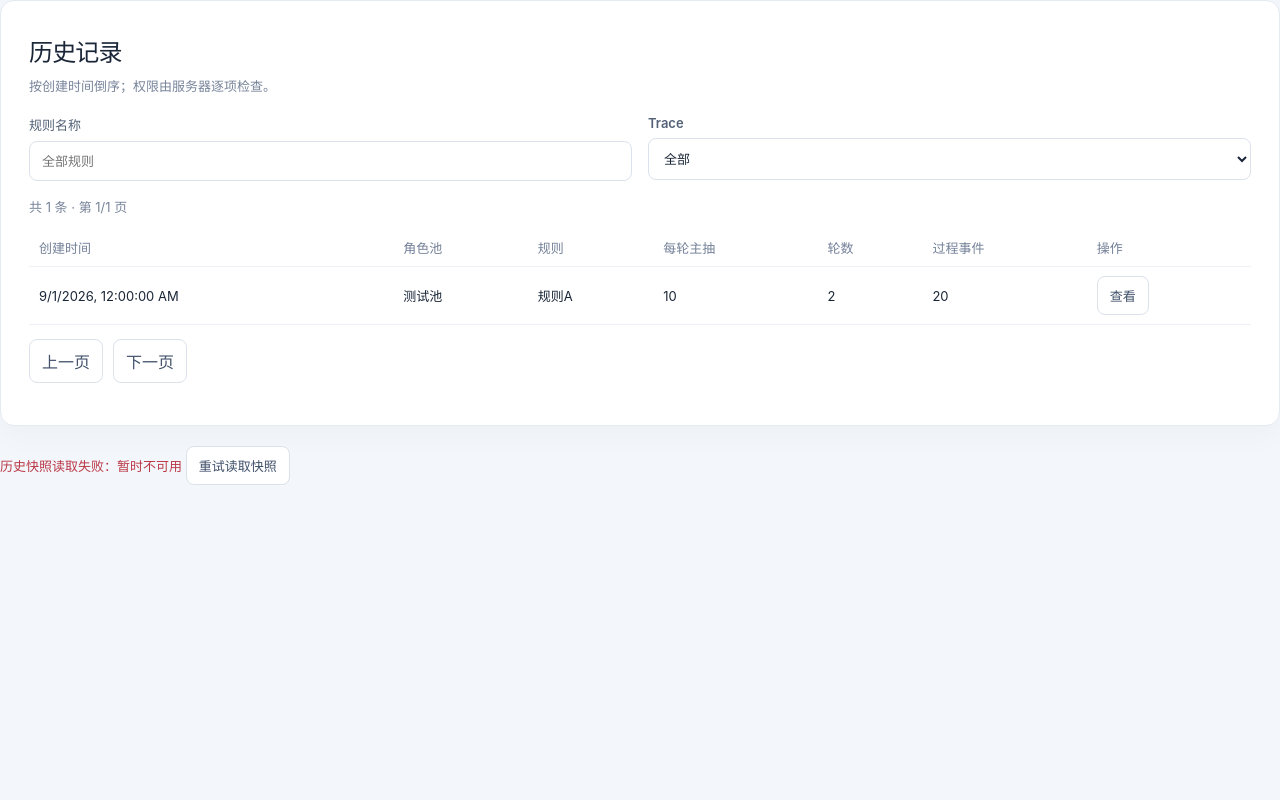
Test: shows a snapshot read failure and retries without presenting it as an empty history
Expected: the message shows "历史快照读取失败：暂时不可用", [0,446,290,485]
Click the button "重试读取快照" at (238, 466), box [186,446,290,485]
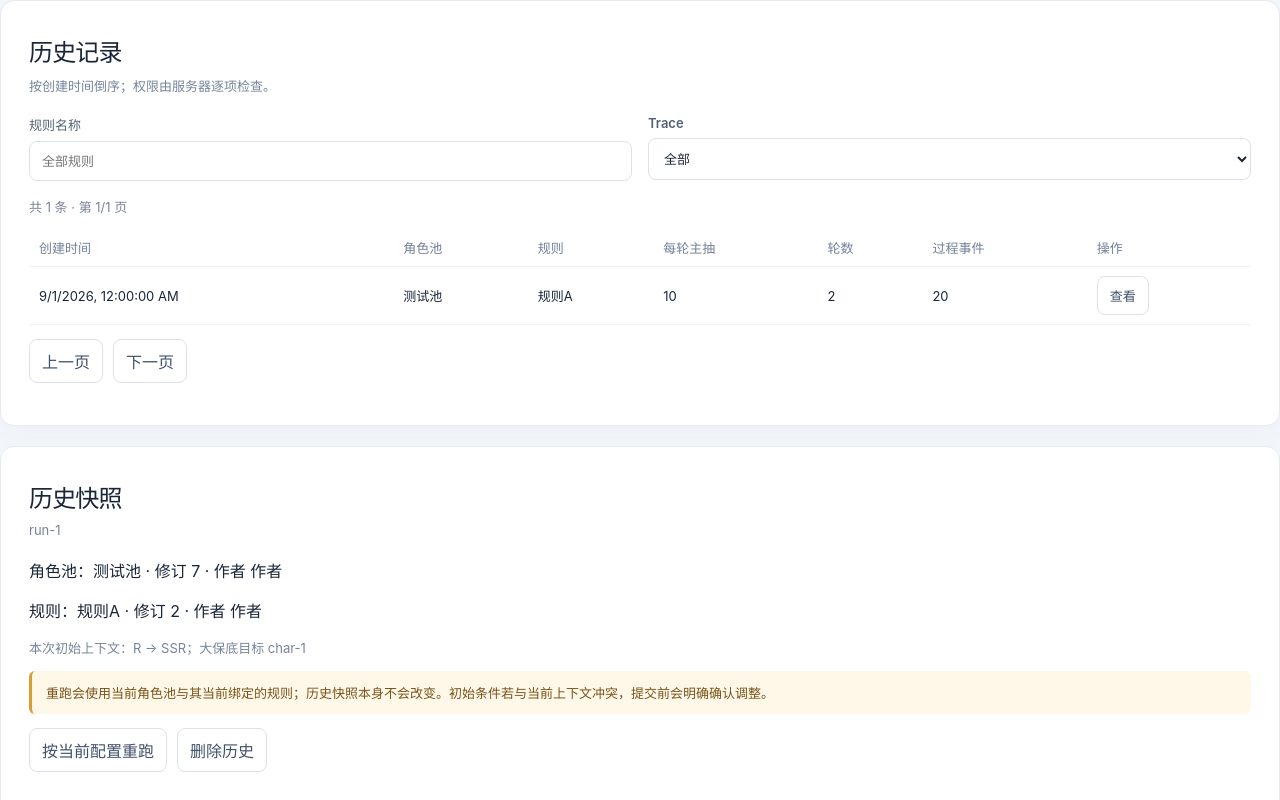
Now the heading "历史快照" is shown, box [29,479,122,514]
